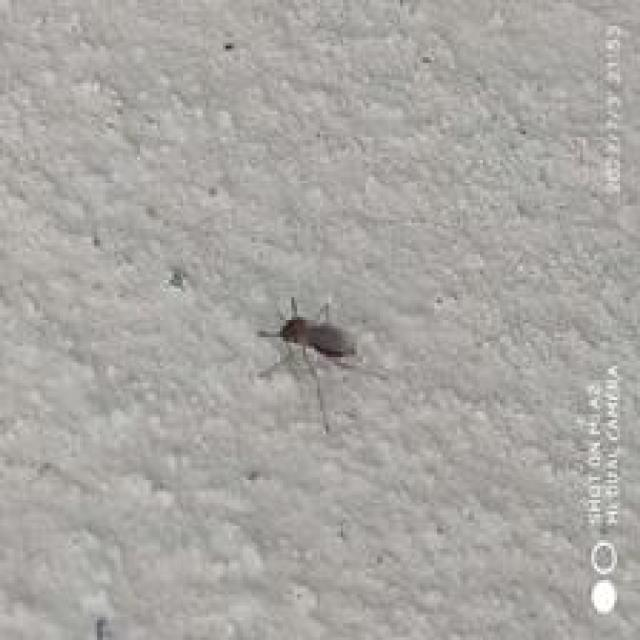Culex: (255, 294, 358, 434)
